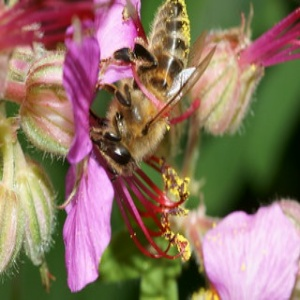bee: (98, 1, 191, 175)
